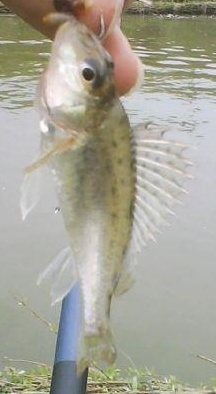Gymnocephalus cernuus: (20, 20, 196, 374)
